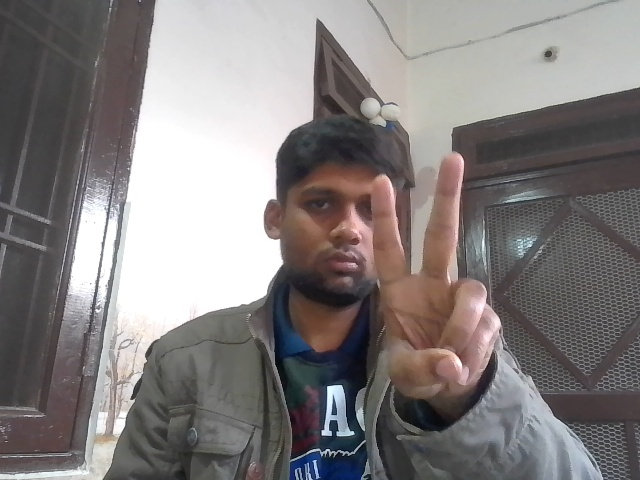Enjoy: (365, 149, 501, 407)
